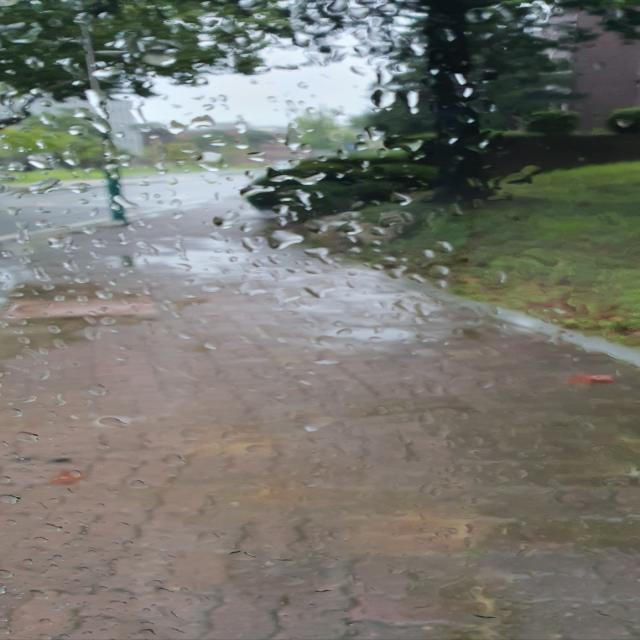raindrop: (126, 32, 193, 82), (252, 168, 347, 192), (76, 84, 124, 122), (361, 82, 408, 119), (0, 16, 57, 46), (192, 146, 236, 182), (34, 229, 85, 260), (14, 148, 62, 173), (77, 378, 126, 402), (264, 228, 305, 254), (94, 413, 138, 437), (298, 278, 343, 301), (78, 323, 116, 350), (15, 425, 58, 447), (18, 176, 60, 198), (86, 117, 120, 140), (0, 489, 29, 512)
